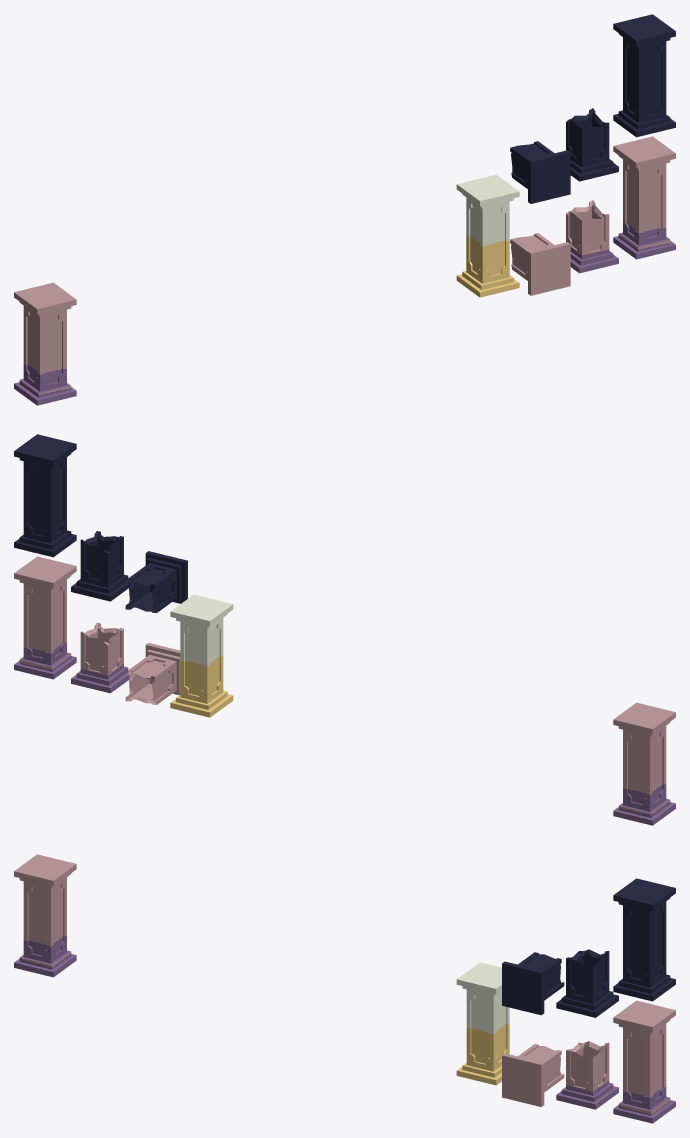
The model's file is piliers_set_03_texture.fbx.
The picture shows the model from 3 angles, top to bottom: view 1: azimuth 30°, elevation 25°; view 2: azimuth 150°, elevation 25°; view 3: azimuth 330°, elevation 25°; orthographic projection.
Visible parts, largest first — view 1: polySurface4, polySurface19, polySurface20, polySurface21, polySurface13, polySurface24, polySurface11, polySurface23; view 2: polySurface4, polySurface19, polySurface20, polySurface21, polySurface23, polySurface11, polySurface24, polySurface13; view 3: polySurface19, polySurface20, polySurface21, polySurface4, polySurface23, polySurface11, polySurface24, polySurface13.
Boxes of the visible parts, box(x1,y1,x2,y2) form: polySurface4: box(456, 174, 519, 297); polySurface19: box(14, 282, 76, 405); polySurface20: box(613, 14, 675, 137); polySurface21: box(613, 136, 675, 259); polySurface13: box(510, 233, 570, 295); polySurface24: box(510, 141, 570, 203); polySurface11: box(566, 200, 618, 273); polySurface23: box(566, 108, 618, 181); polySurface4: box(170, 594, 233, 717); polySurface19: box(613, 702, 675, 825); polySurface20: box(14, 434, 76, 557); polySurface21: box(14, 556, 76, 679); polySurface23: box(71, 531, 129, 601); polySurface11: box(71, 623, 129, 693); polySurface24: box(125, 551, 187, 612); polySurface13: box(125, 643, 180, 704); polySurface19: box(14, 854, 76, 977); polySurface20: box(613, 878, 675, 1001); polySurface21: box(613, 1000, 675, 1123); polySurface4: box(456, 962, 509, 1085); polySurface23: box(556, 949, 618, 1017); polySurface11: box(556, 1041, 618, 1109); polySurface24: box(502, 952, 564, 1015); polySurface13: box(502, 1044, 564, 1106).
Bounding box in the file's own units: 65.92 × 22.33 × 5.2.
Materials: 2 (2 with a texture image).
